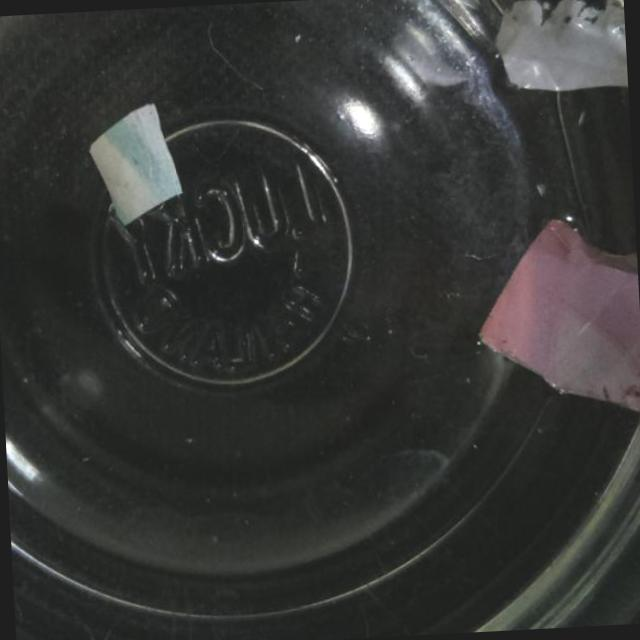fiber: (461, 212, 640, 439), (489, 0, 627, 100), (84, 100, 189, 229)
